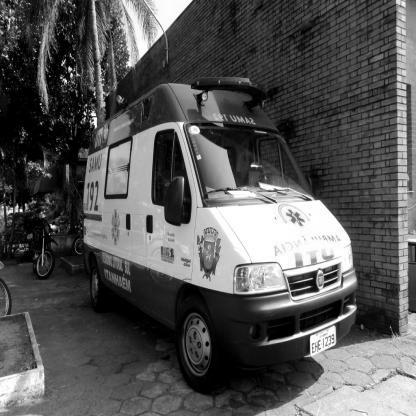ambulance: (50, 94, 380, 393)
